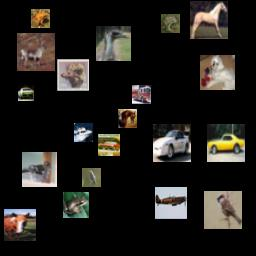airplane: (155, 187, 187, 219)
automobile: (207, 124, 245, 162), (153, 124, 191, 162), (98, 134, 120, 156), (18, 85, 34, 101)
bird: (204, 191, 242, 229), (96, 26, 131, 61), (22, 152, 57, 187), (57, 59, 89, 91), (82, 168, 101, 187)
deer: (17, 33, 55, 71)
dog: (200, 55, 235, 90)
frog: (63, 192, 89, 218), (31, 9, 50, 28), (161, 14, 180, 33)
ship: (74, 123, 93, 142)
truck: (132, 85, 151, 104)
